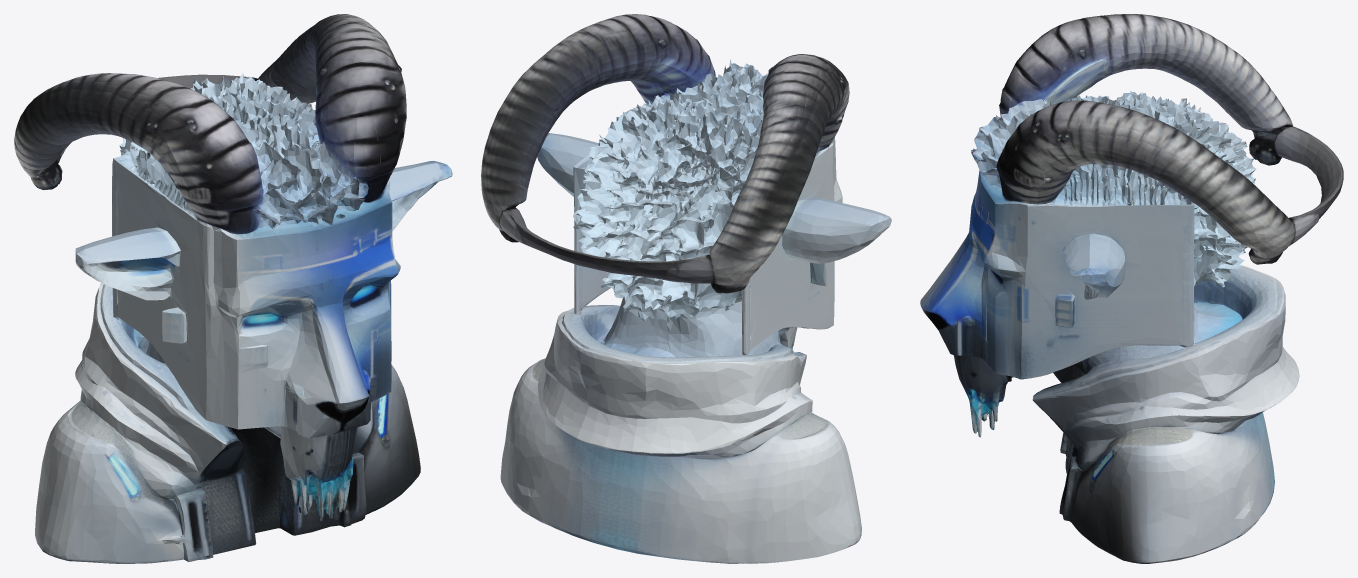
File: hero-model.glb
3 renders of one model, left to right at view 1: azimuth 30°, elevation 25°; view 2: azimuth 150°, elevation 25°; view 3: azimuth 270°, elevation 25°, orthographic. The views are drawn at different scales.
Parts seen in each view (by area): view 1: world; view 2: world; view 3: world.
Part boxes in pixels (x1,y1,x2,y2): world: (14, 14, 452, 563); world: (481, 14, 891, 563); world: (920, 14, 1343, 563).
Size of the model in its own units: 0.8292 by 0.9974 by 0.9105.
Materials: 1 (1 with a texture image).
